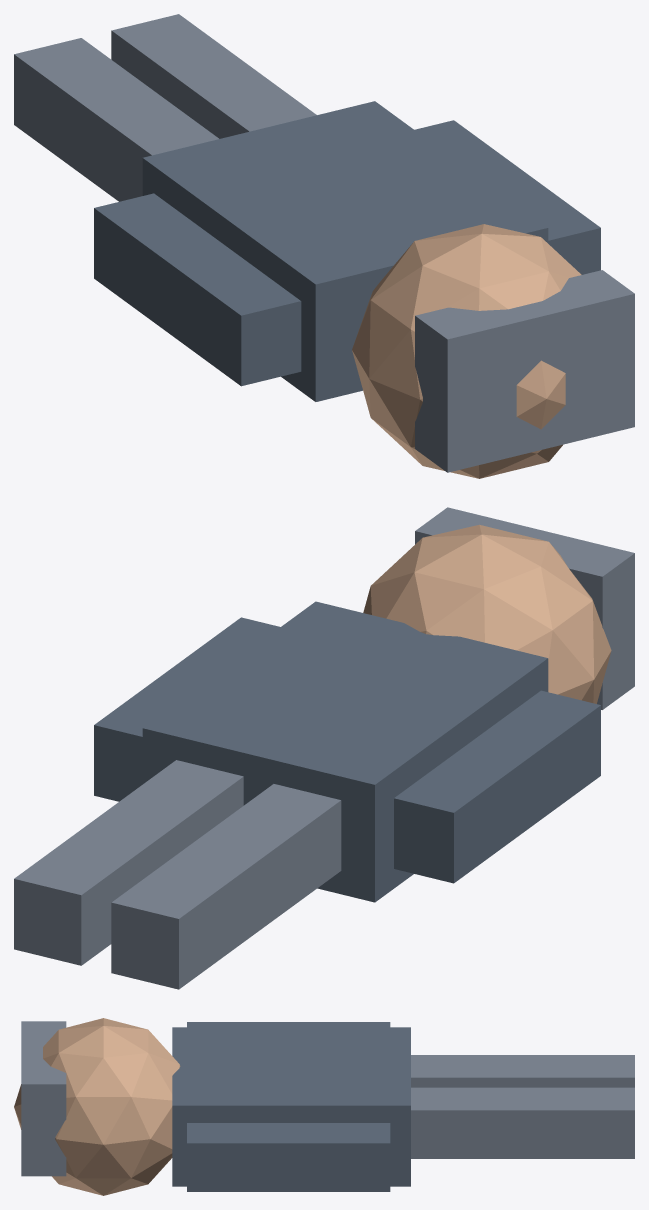
Rendered from ceo_variant_3.glb.
3 renders of one model, top to bottom at view 1: azimuth 30°, elevation 25°; view 2: azimuth 150°, elevation 25°; view 3: azimuth 270°, elevation 25°, orthographic. The views are drawn at different scales.
Parts seen in each view (by area): view 1: torso_2, hair_6, head_5, arm_l_3, leg_l_0, leg_r_1, arm_r_4; view 2: torso_2, leg_l_0, head_5, arm_l_3, leg_r_1, arm_r_4, hair_6; view 3: torso_2, head_5, leg_r_1, arm_r_4, leg_l_0, hair_6, arm_l_3.
Boxes of the visible parts, box(x1,y1,x2,y2) form: torso_2: box(142, 101, 548, 401); hair_6: box(415, 270, 634, 472); head_5: box(352, 224, 581, 478); arm_l_3: box(94, 193, 301, 386); leg_l_0: box(14, 38, 218, 201); leg_r_1: box(111, 14, 316, 138); arm_r_4: box(414, 120, 600, 274); torso_2: box(142, 601, 548, 902); leg_l_0: box(111, 784, 341, 989); head_5: box(363, 524, 611, 703); arm_l_3: box(394, 690, 600, 883); leg_r_1: box(14, 760, 243, 965); arm_r_4: box(94, 617, 280, 801); hair_6: box(415, 507, 634, 709); torso_2: box(172, 1027, 410, 1186); head_5: box(14, 1018, 180, 1195); leg_r_1: box(411, 1087, 634, 1158); arm_r_4: box(187, 1123, 390, 1191); leg_l_0: box(411, 1055, 634, 1087); hair_6: box(21, 1021, 66, 1176); arm_l_3: box(187, 1022, 390, 1027).
Size of the model in its own units: 0.96 by 0.6 by 2.08.
